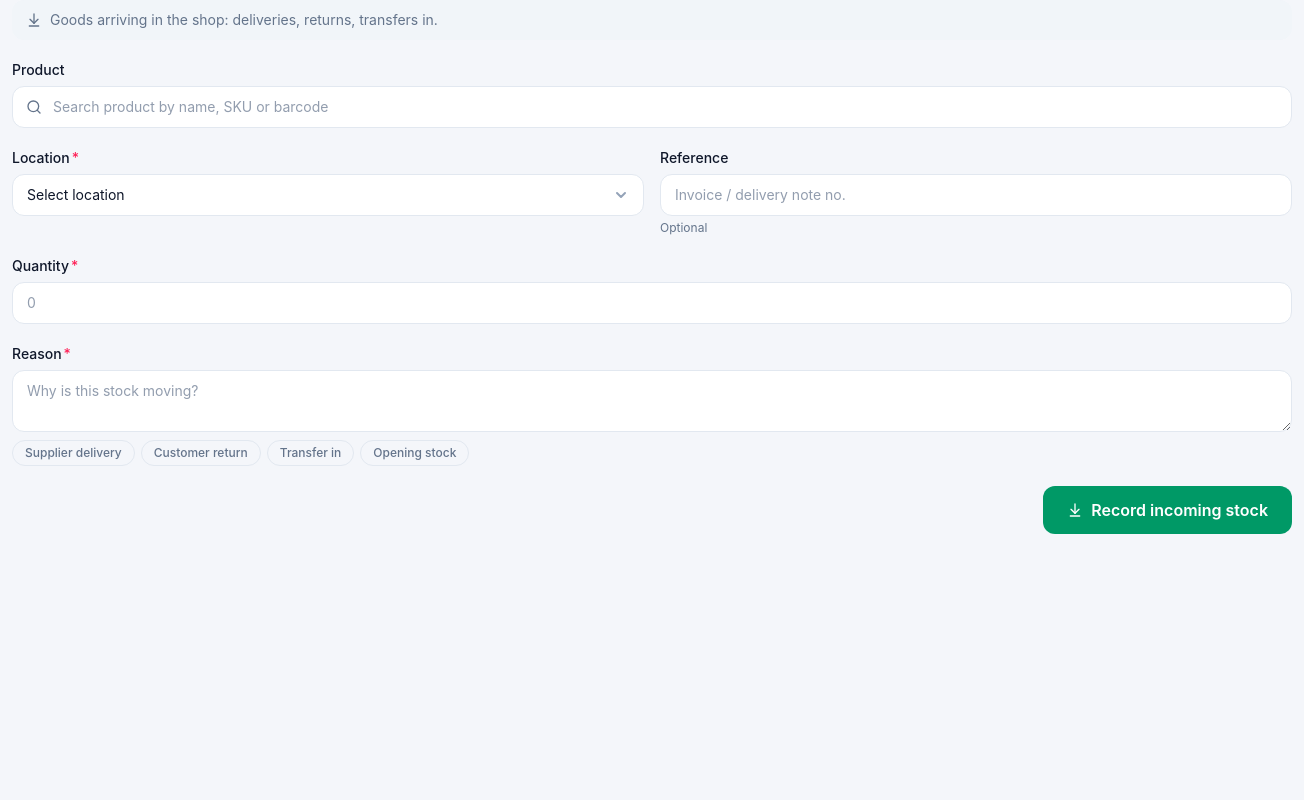
Test case: StockActionForm › requires a product, a reason and a whole quantity of at least 1
The image size is (1304, 800).
Click the button "Record incoming stock" at (1168, 510), box [1043,486,1292,534]
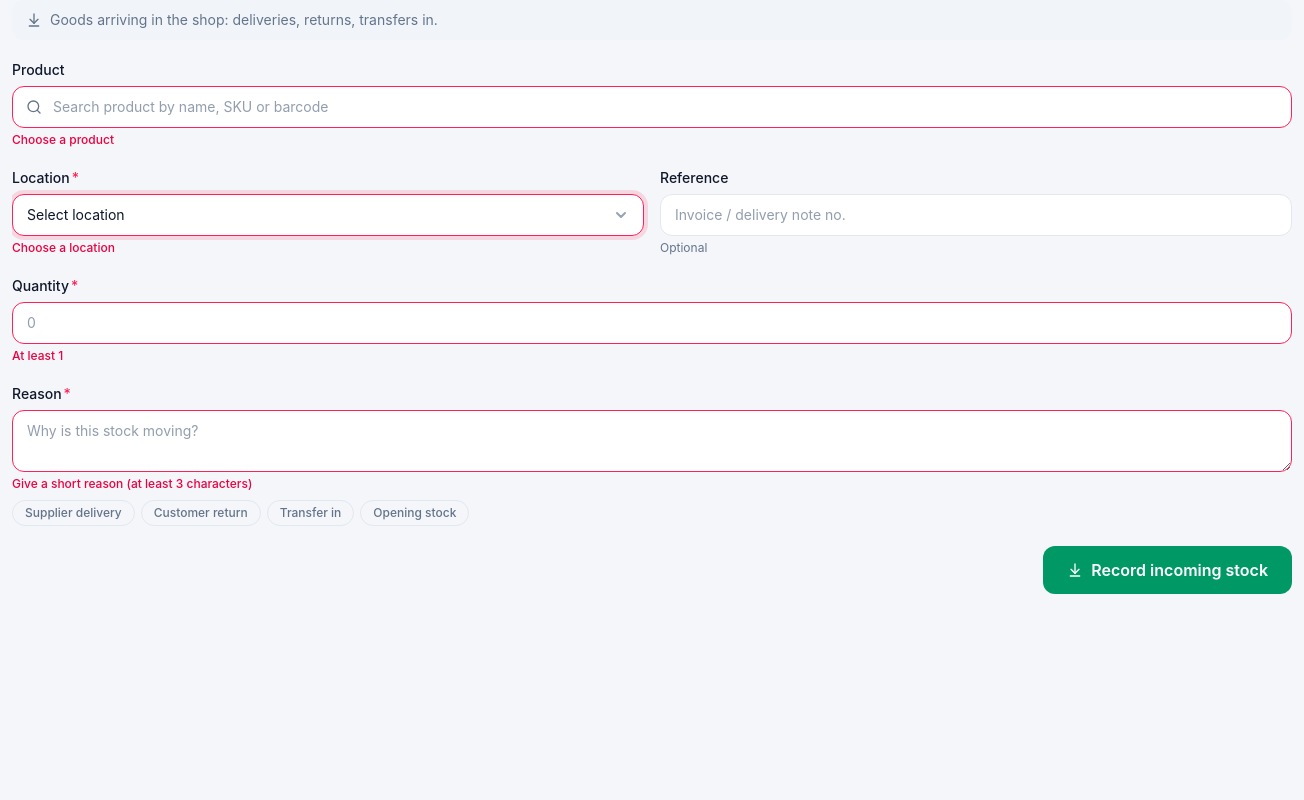
Expected: the text "Choose a product" is shown, [12,132,114,147]
Expected: the text "Choose a location" is shown, [12,240,115,255]
Expected: the text "Give a short reason (at least 3 characters)" is shown, [12,476,252,491]
